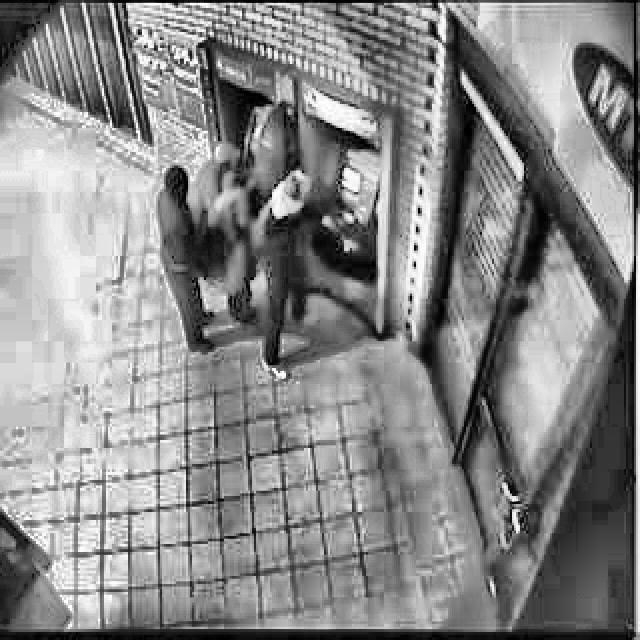burglary: (152, 77, 378, 386)
